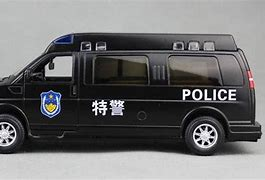specialcar: (2, 28, 258, 159)
